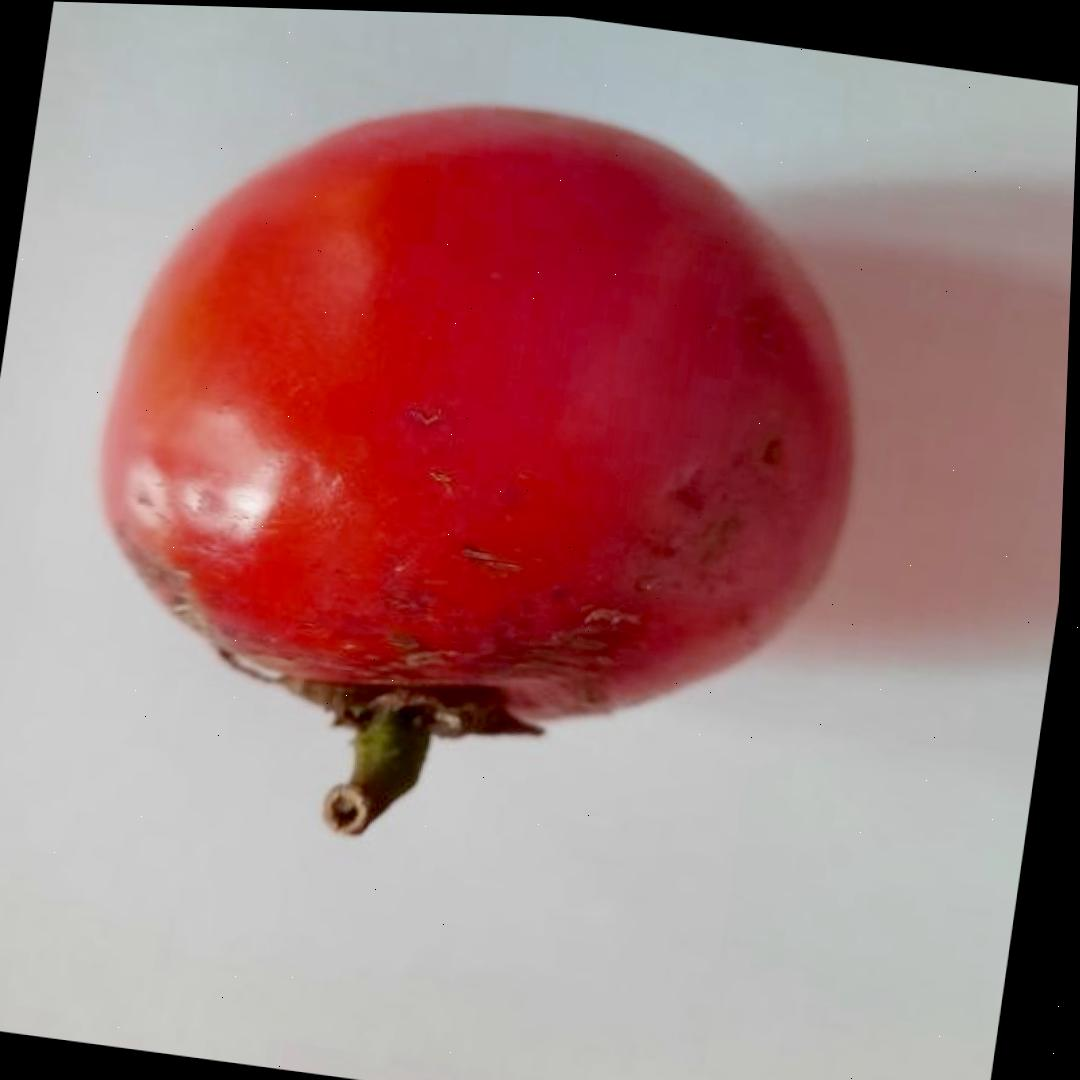matang: (42, 52, 904, 910)
